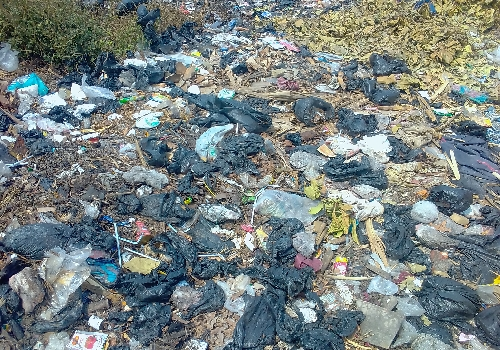trash: (10, 11, 495, 348)
